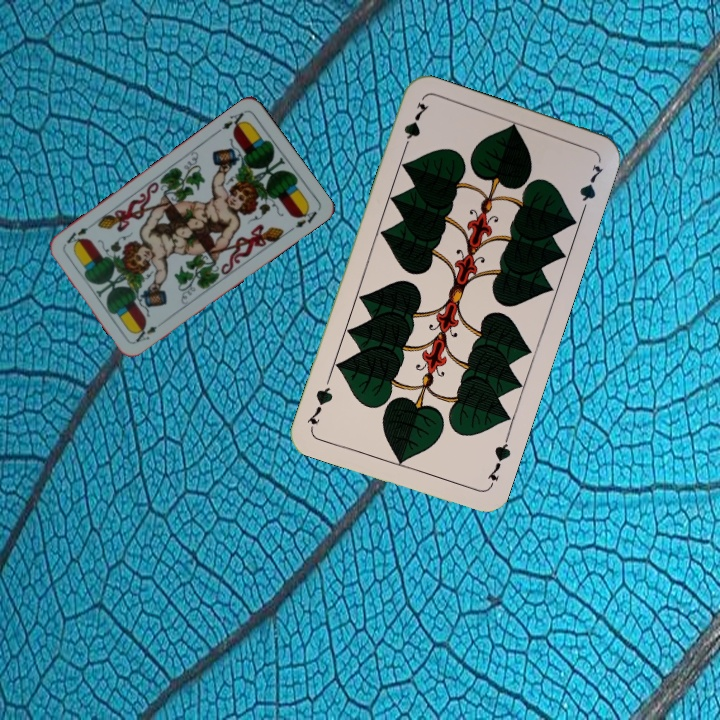EA: (218, 107, 249, 133), (131, 322, 160, 345)
G7: (398, 98, 431, 155), (483, 433, 514, 490)
